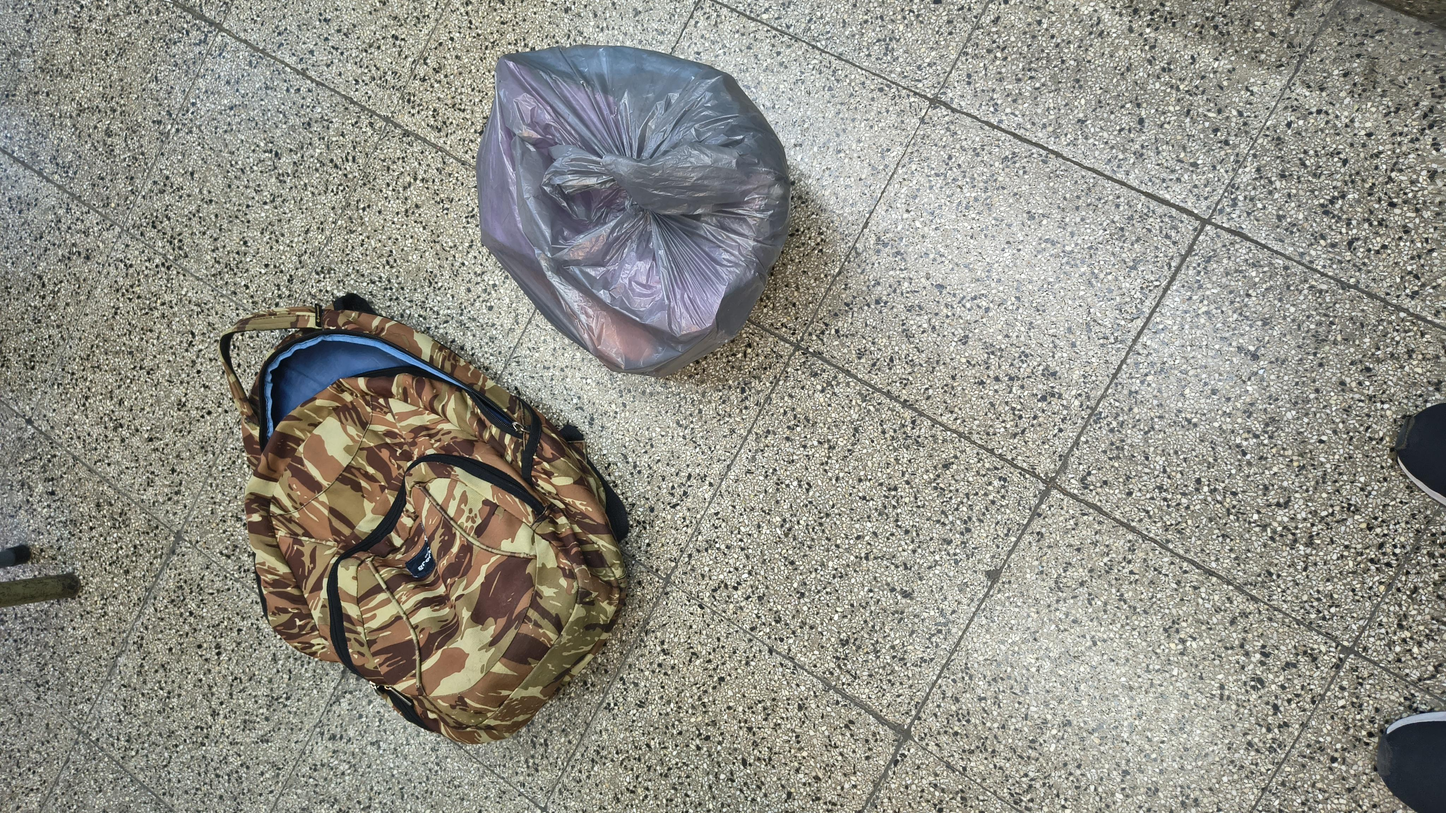Garbage: (722, 252, 1412, 453)
